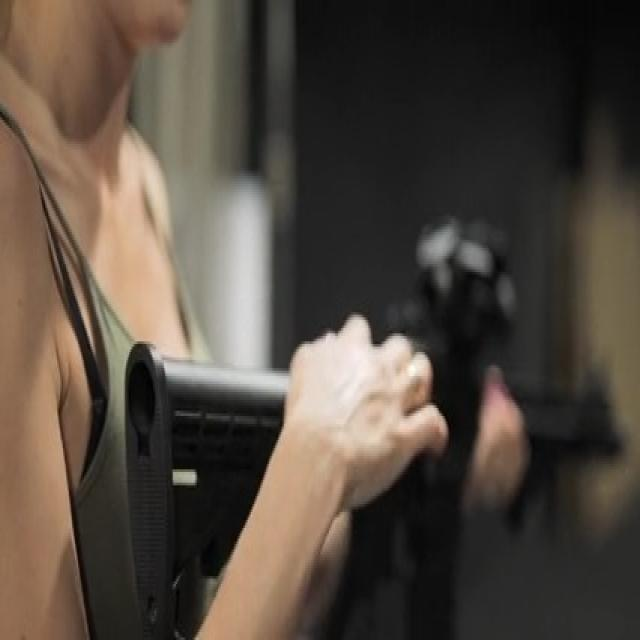Gun_Holder: (132, 208, 640, 640)
